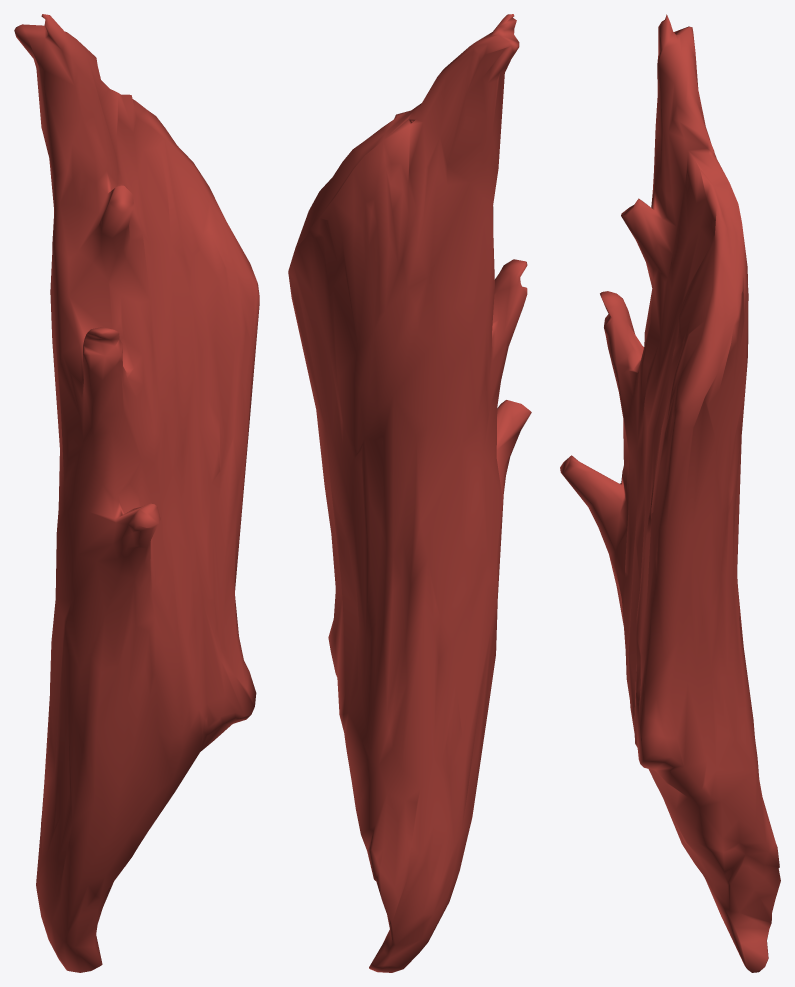
The model's file is musculos-quadratus-lumborum-muscle-l.glb.
3 views of the same model, side by side, from view 1: azimuth 30°, elevation 25°; view 2: azimuth 150°, elevation 25°; view 3: azimuth 270°, elevation 25° (orthographic). The views are drawn at different scales.
Visible parts, largest first — view 1: Quadratus lumborum muscle.l; view 2: Quadratus lumborum muscle.l; view 3: Quadratus lumborum muscle.l.
Boxes of the visible parts, bbox=[...] form: Quadratus lumborum muscle.l: bbox=[14, 14, 259, 972]; Quadratus lumborum muscle.l: bbox=[288, 14, 531, 972]; Quadratus lumborum muscle.l: bbox=[560, 14, 780, 972].
Bounding box in the file's own units: 0.0514 × 0.2064 × 0.0452.
